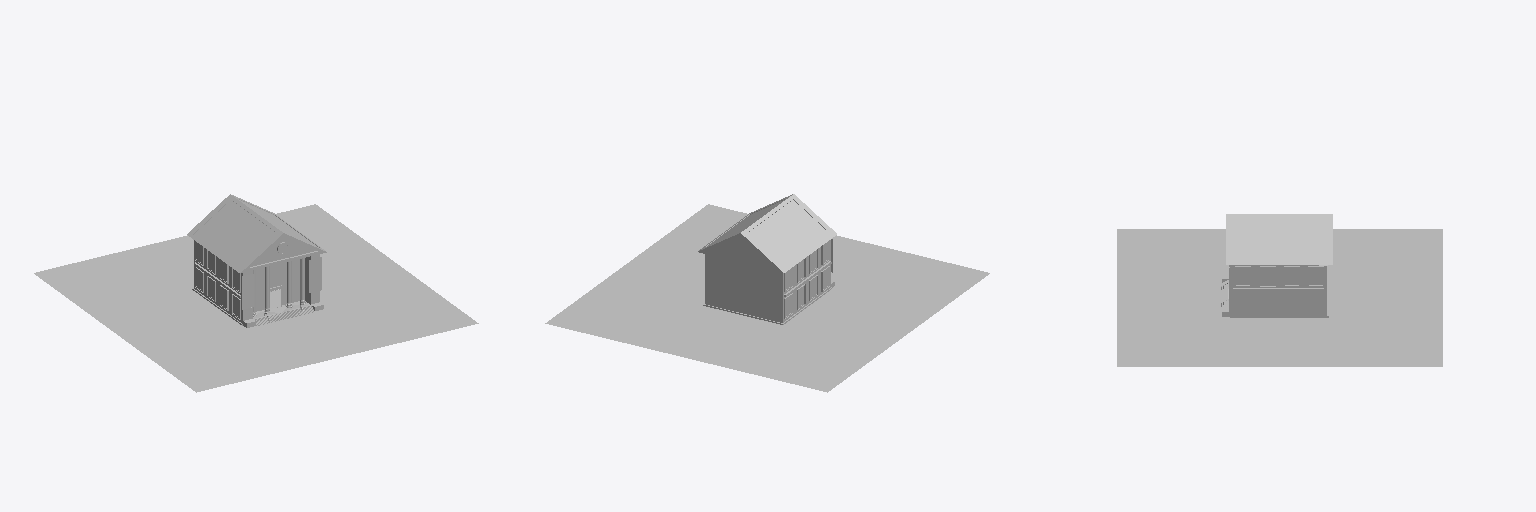
The model's file is Fachada.obj.
The picture shows the model from 3 angles: view 1: azimuth 30°, elevation 25°; view 2: azimuth 150°, elevation 25°; view 3: azimuth 270°, elevation 25°; orthographic projection.
Parts seen in each view (by area): view 1: Piso, Fachada; view 2: Piso, Fachada; view 3: Piso, Fachada.
Part boxes in pixels (bbox=[...]): Piso: bbox=[34, 204, 478, 392]; Fachada: bbox=[187, 194, 326, 327]; Piso: bbox=[545, 204, 989, 392]; Fachada: bbox=[698, 194, 836, 324]; Piso: bbox=[1117, 229, 1442, 366]; Fachada: bbox=[1221, 214, 1332, 317].
Bounding box in the file's own units: 20.82 × 5.96 × 20.82.